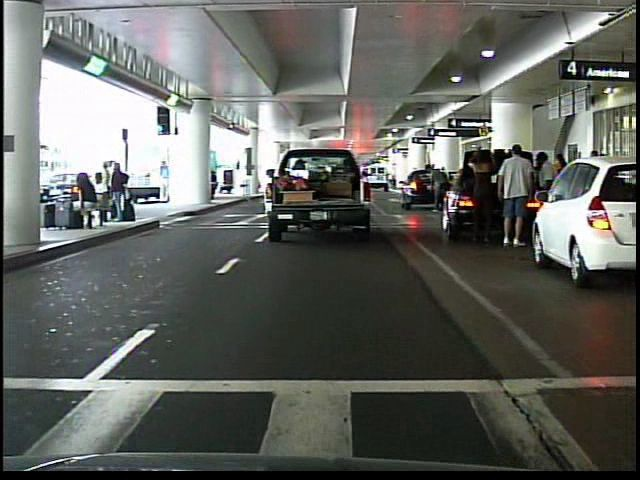person: (495, 141, 534, 248), (463, 141, 500, 251), (531, 144, 558, 251), (424, 158, 450, 216), (157, 158, 174, 203)
